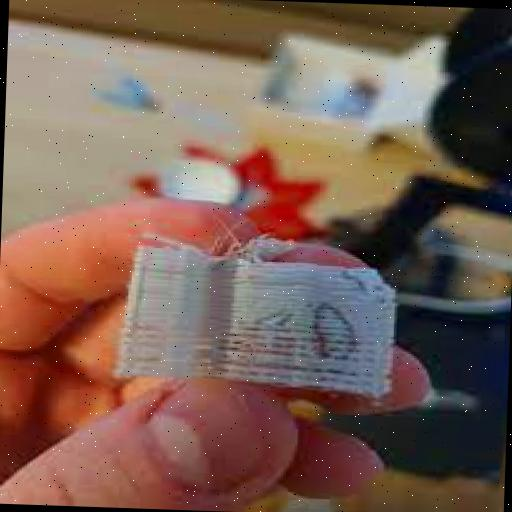spaghetti: (134, 216, 390, 301)
